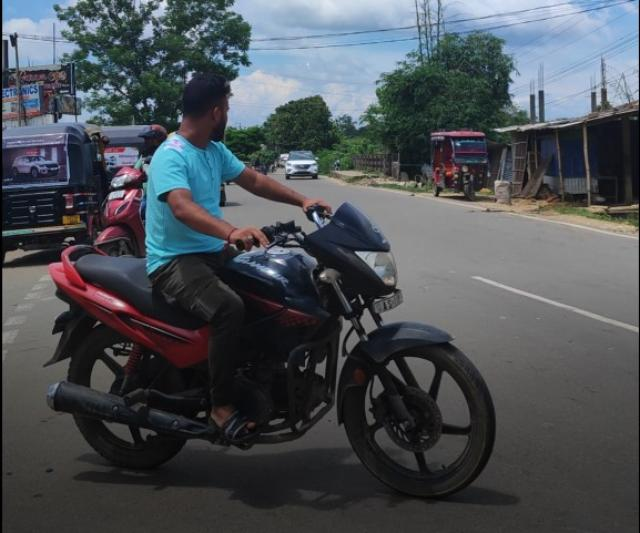licensePlate: (373, 291, 415, 314)
motorcycle: (48, 70, 499, 497)
withoutHelmet: (173, 75, 242, 150)
